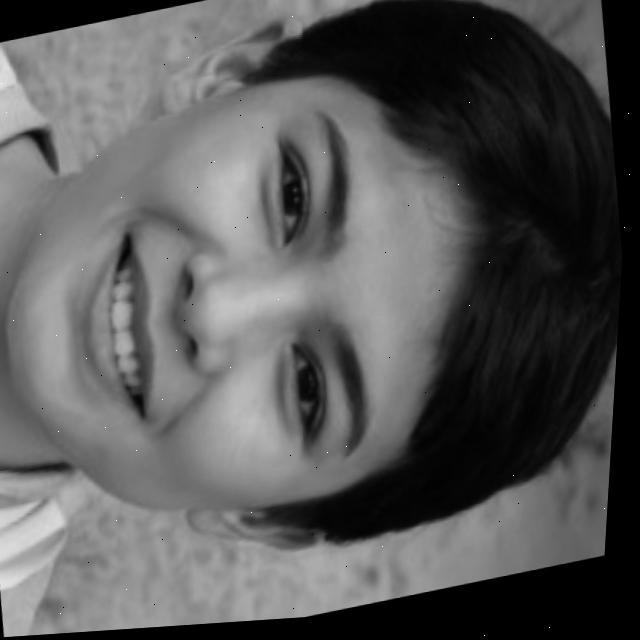happy: (0, 0, 640, 605)
